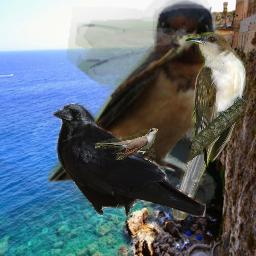Crow: (51, 103, 206, 217)
Cuckoo: (172, 32, 248, 220), (95, 128, 158, 160)
Swallow: (47, 0, 230, 208)
